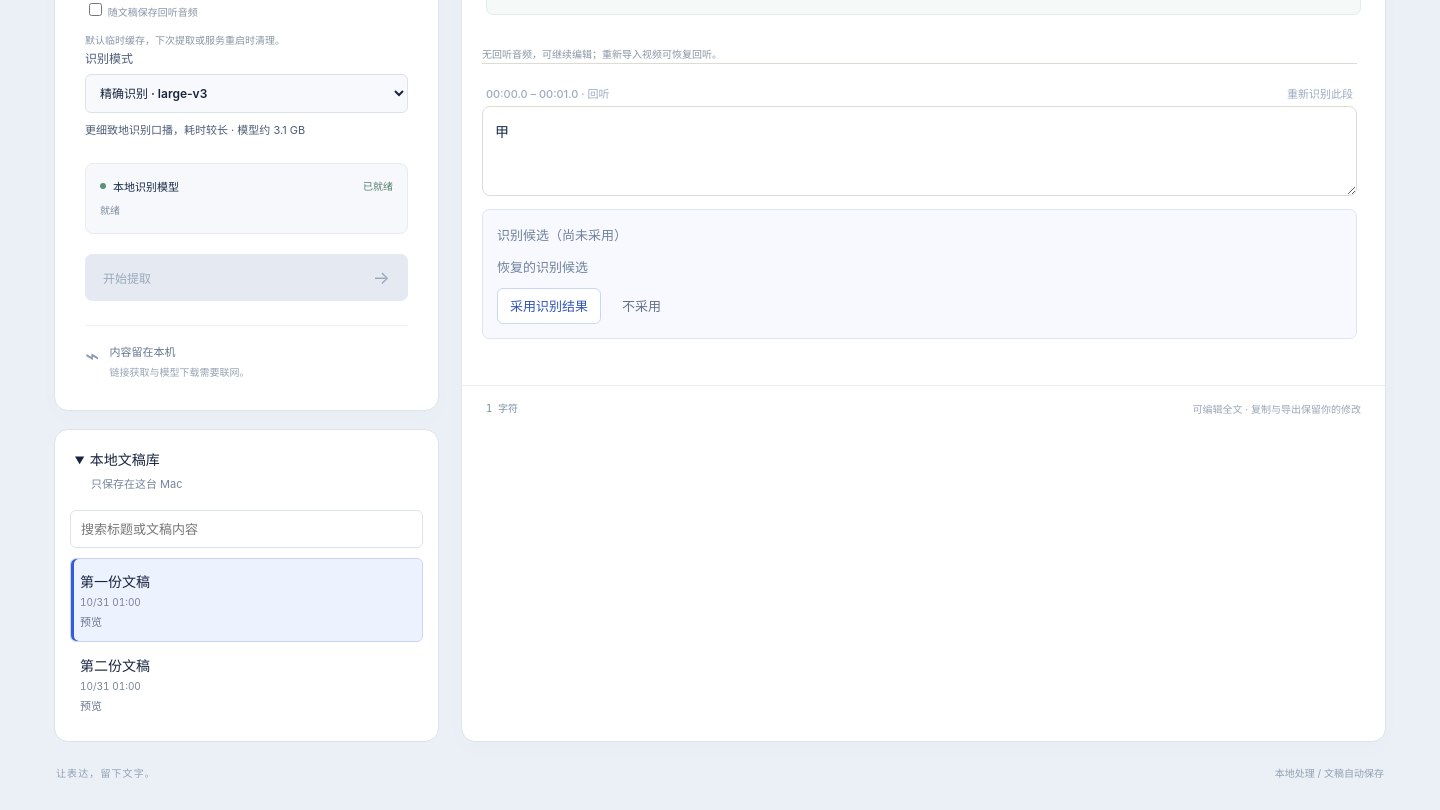
Test: keeps a recovered segment candidate available after visiting another manuscript
(page scrolled)
Expected: the text "恢复的识别候选" is shown, [497,259,588,275]
Click the button "第二份文稿 10/31 01:00 预览" at [115, 665], box [70,642,423,726]
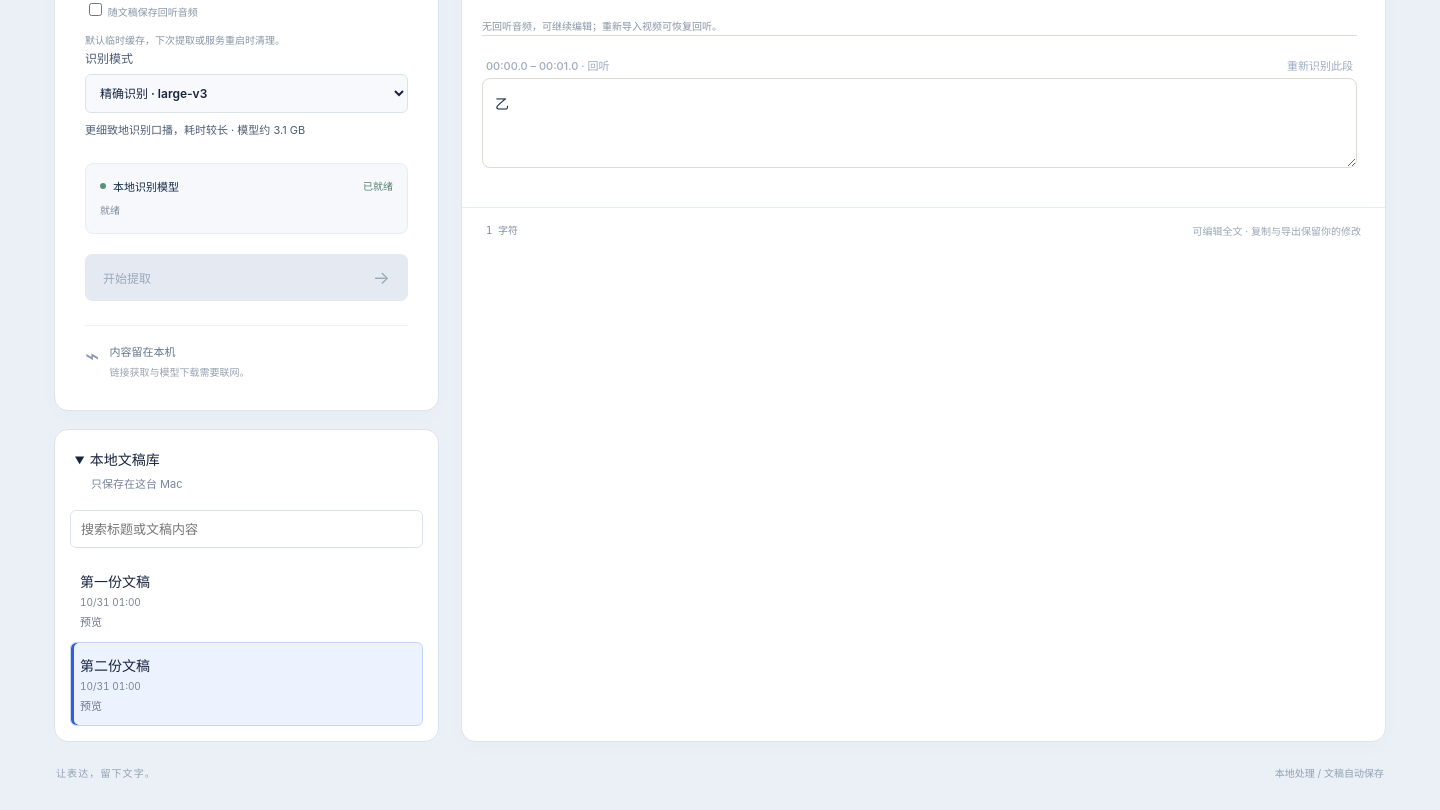
Expected: the text box named "片段 1" holds "乙", [482,78,1357,168]
Expected: the text "恢复的识别候选" is gone
Click the button "第一份文稿 10/31 01:00 预览" at [115, 581], box [70,558,423,642]
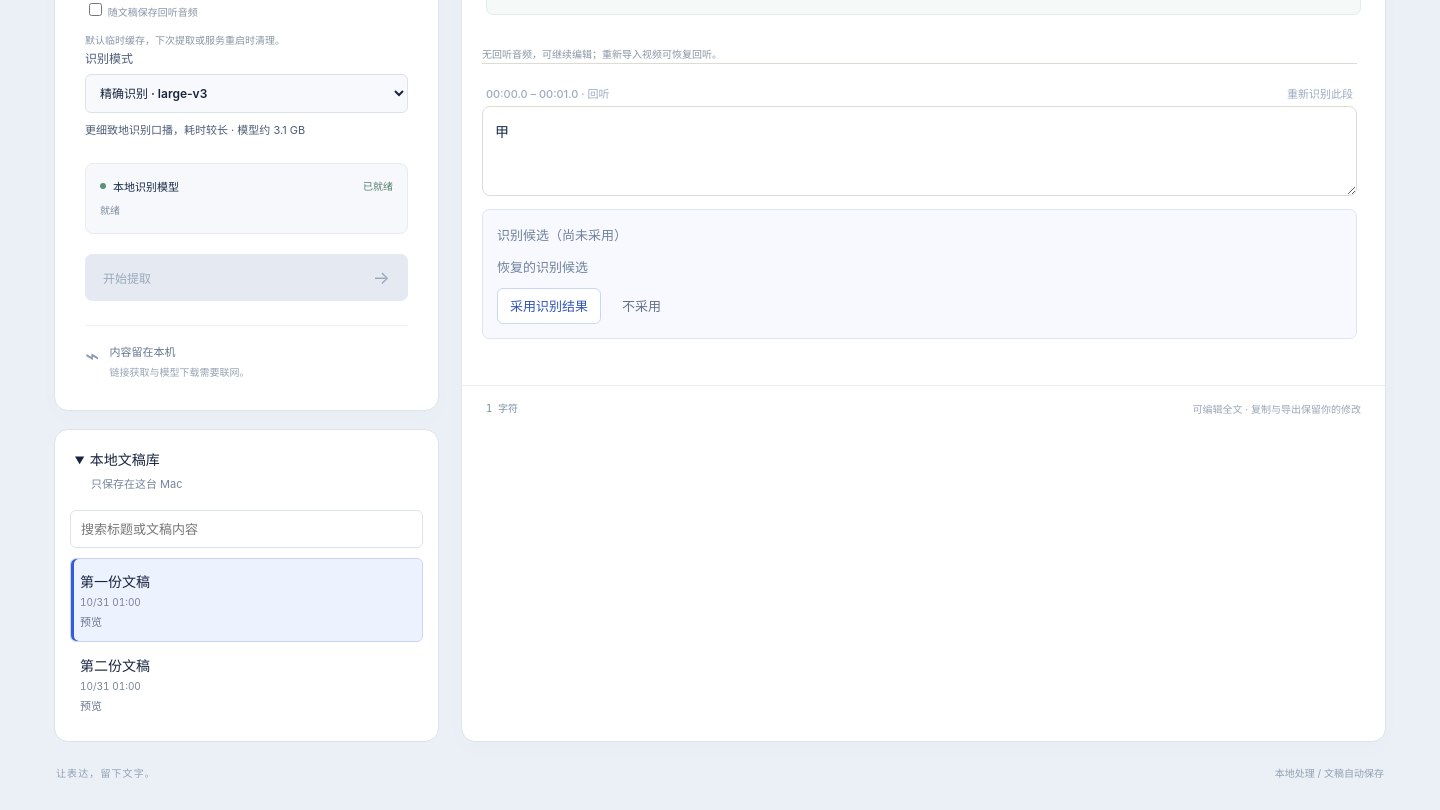
Expected: the text "恢复的识别候选" is shown, [497,259,588,275]
Expected: the text box named "片段 1" holds "甲", [482,106,1357,196]
Expected: the button "采用识别结果" is enabled, [497,288,601,324]
